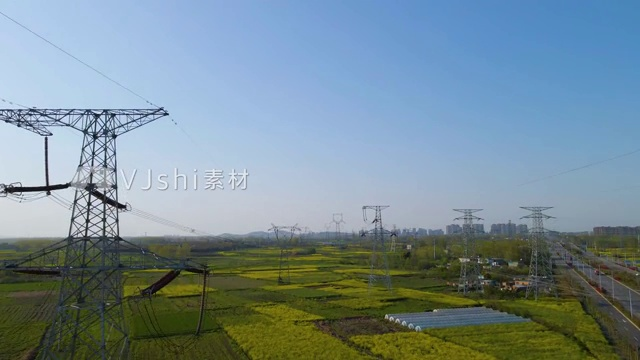tower_up: (1, 95, 182, 349), (515, 201, 559, 298), (451, 206, 496, 298), (362, 201, 400, 291), (269, 221, 305, 286)
